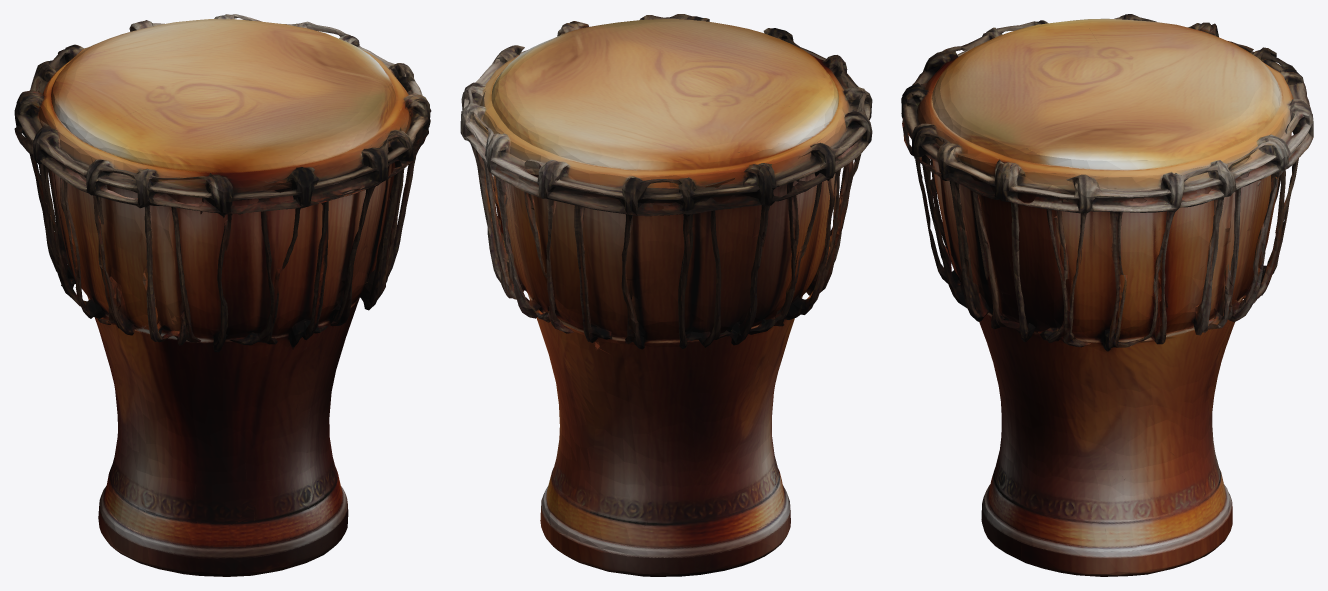
File: wooden-djembe-drum-rustic.jpeg.glb
The picture shows the model from 3 angles, left to right: view 1: azimuth 30°, elevation 25°; view 2: azimuth 150°, elevation 25°; view 3: azimuth 270°, elevation 25°; orthographic projection.
Visible parts, largest first — view 1: world; view 2: world; view 3: world.
Boxes of the visible parts, bbox=[...] form: world: bbox=[14, 14, 431, 576]; world: bbox=[460, 14, 872, 576]; world: bbox=[901, 14, 1313, 576].
Bounding box in the file's own units: 0.841 × 0.9988 × 0.8411.
Materials: 1 (1 with a texture image).
